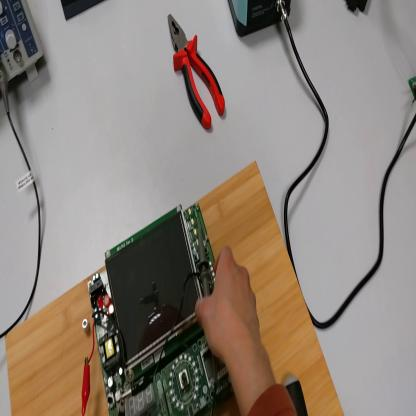hand: (196, 246, 261, 361)
low voltage board: (88, 202, 244, 415)
oscilloscope: (2, 4, 46, 92)
oscilloscope probe tip: (197, 218, 219, 380)
pliers: (169, 12, 229, 134)
screwdriver-: (284, 374, 309, 414)
welder base: (346, 2, 369, 16)
welder station: (228, 1, 293, 37)
working area: (1, 163, 345, 415)
